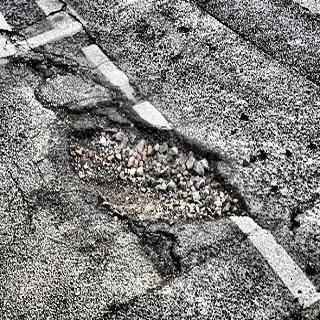alligator-crack: (1, 27, 82, 80)
crack: (49, 1, 96, 44)
pothole: (67, 114, 243, 233)
